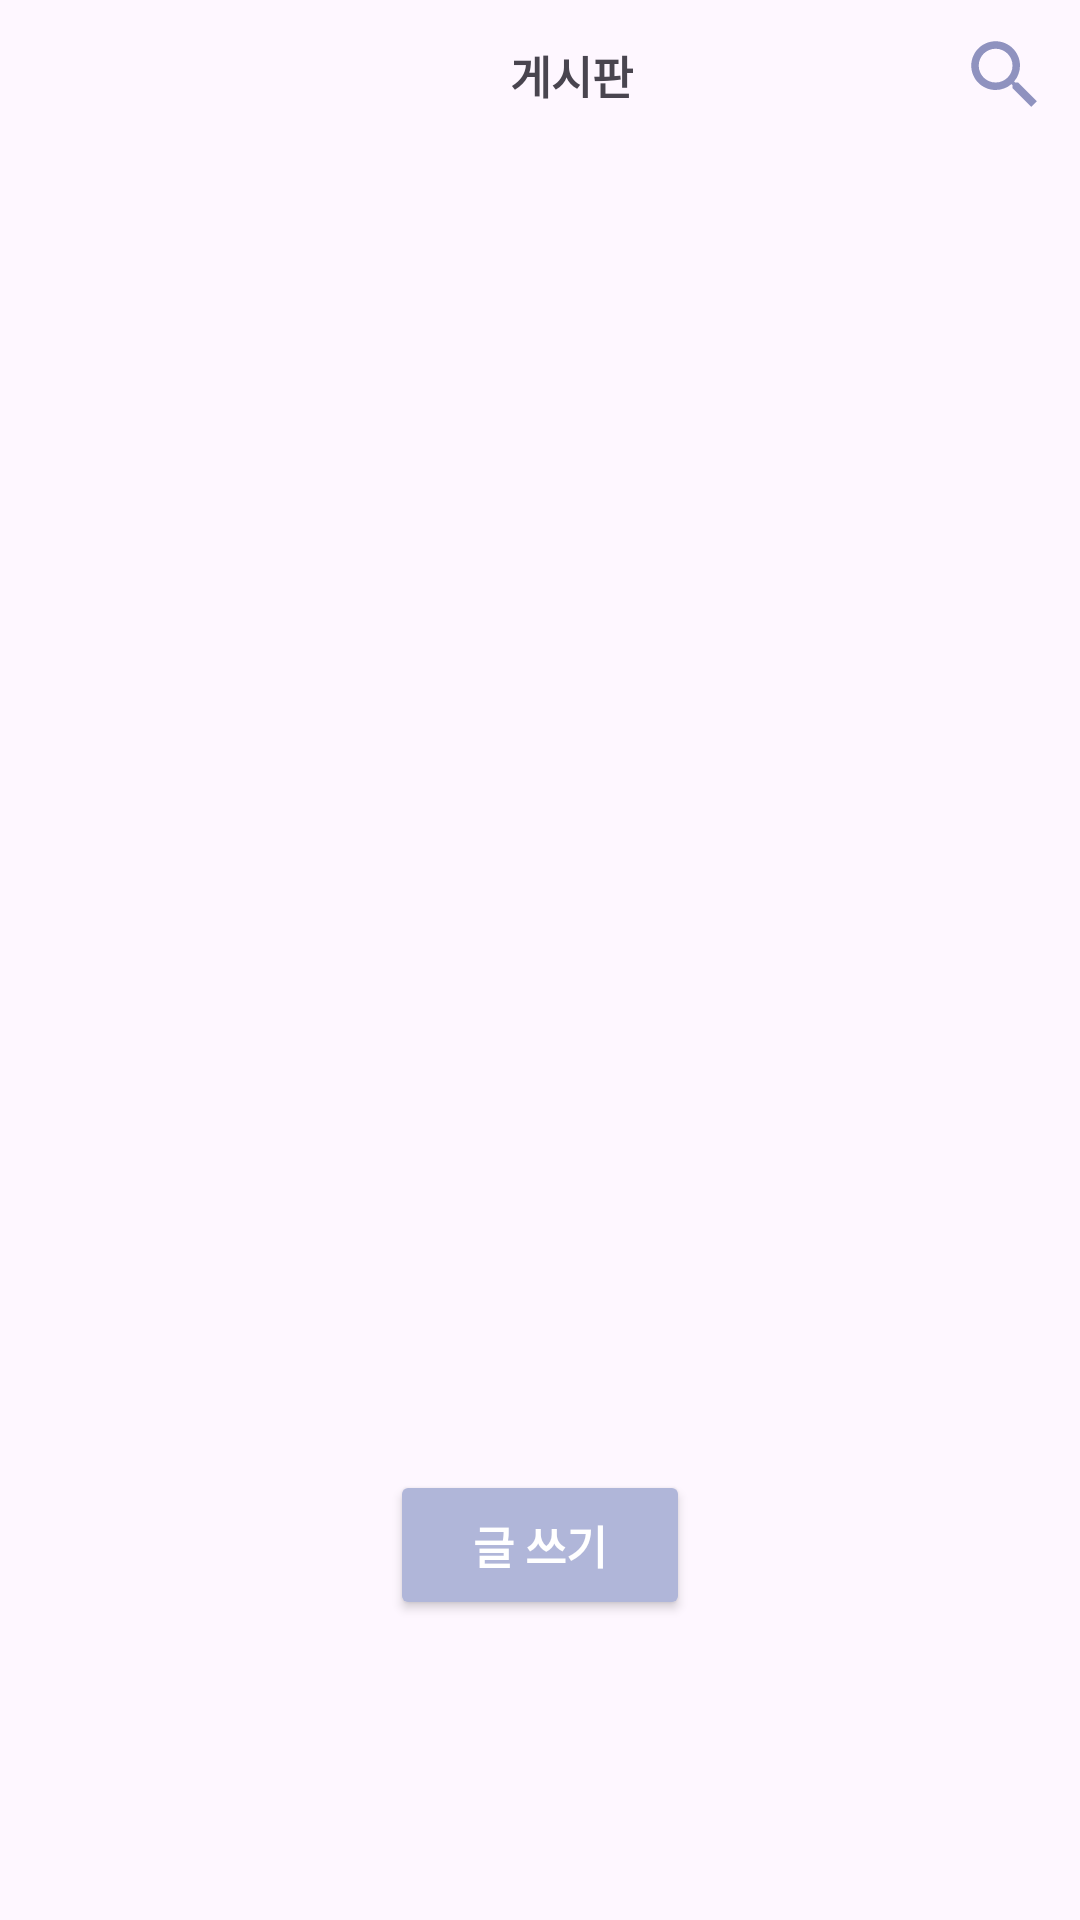

Icons on this 1080×1920 Android screen, each with the point to tap as point (x, y):
search: point (1004, 74)
